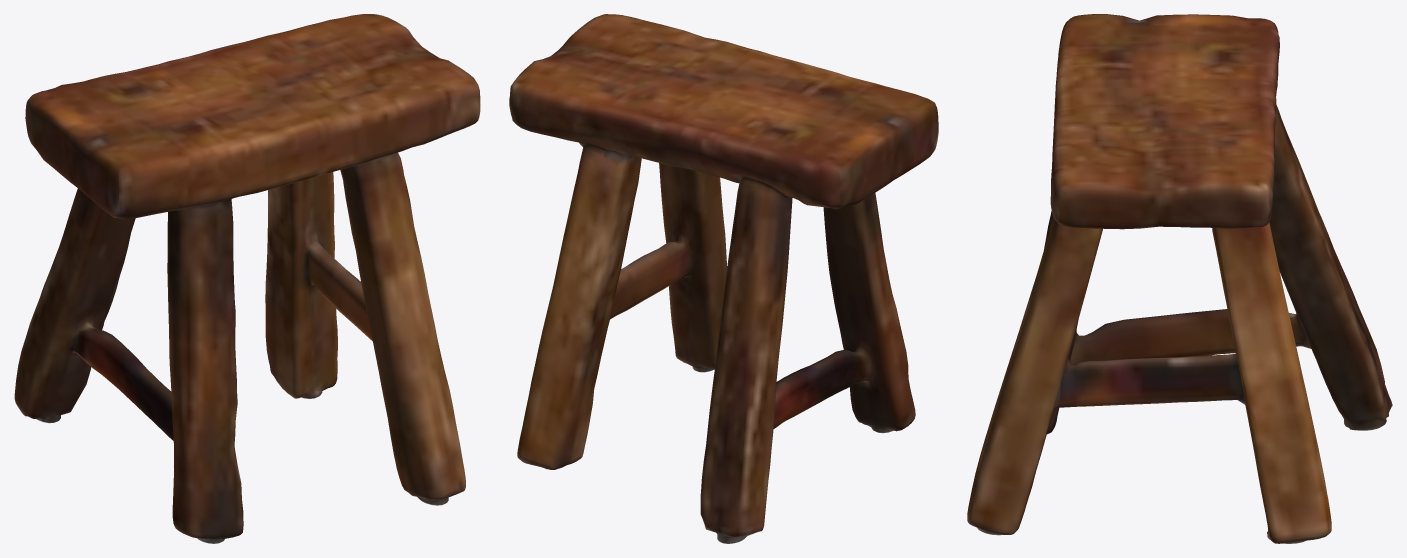
The model's file is ph-wooden-stool-02.glb.
The picture shows the model from 3 angles, left to right: view 1: azimuth 30°, elevation 25°; view 2: azimuth 150°, elevation 25°; view 3: azimuth 270°, elevation 25°; orthographic projection. The views are drawn at different scales.
Visible parts, largest first — view 1: wooden_stool_02; view 2: wooden_stool_02; view 3: wooden_stool_02.
Boxes of the visible parts, x1,y1,x2,y2 form: wooden_stool_02: [14, 14, 480, 543]; wooden_stool_02: [509, 14, 938, 543]; wooden_stool_02: [967, 14, 1392, 543].
Size of the model in its own units: 1 by 1 by 1.
1 material, 1 textured.
